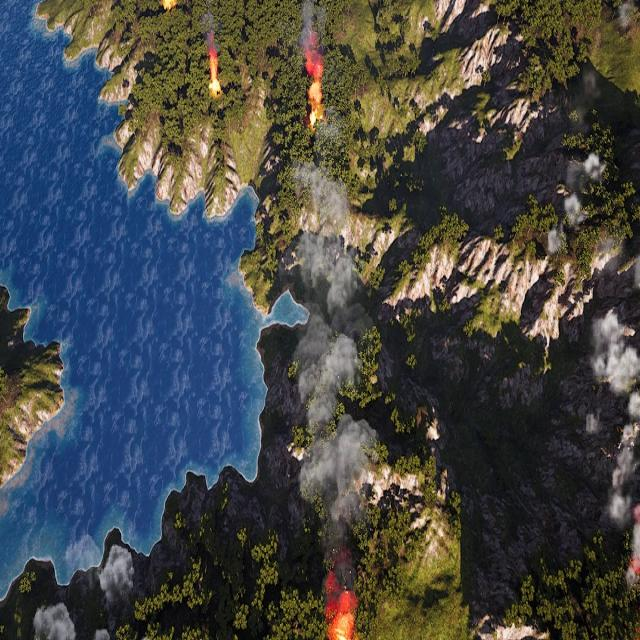fire: (324, 592, 355, 640), (305, 72, 328, 130), (208, 52, 222, 94), (160, 0, 178, 11)
smoke: (287, 122, 383, 593), (582, 304, 640, 578), (31, 538, 138, 640), (553, 154, 605, 249), (300, 0, 329, 94)
